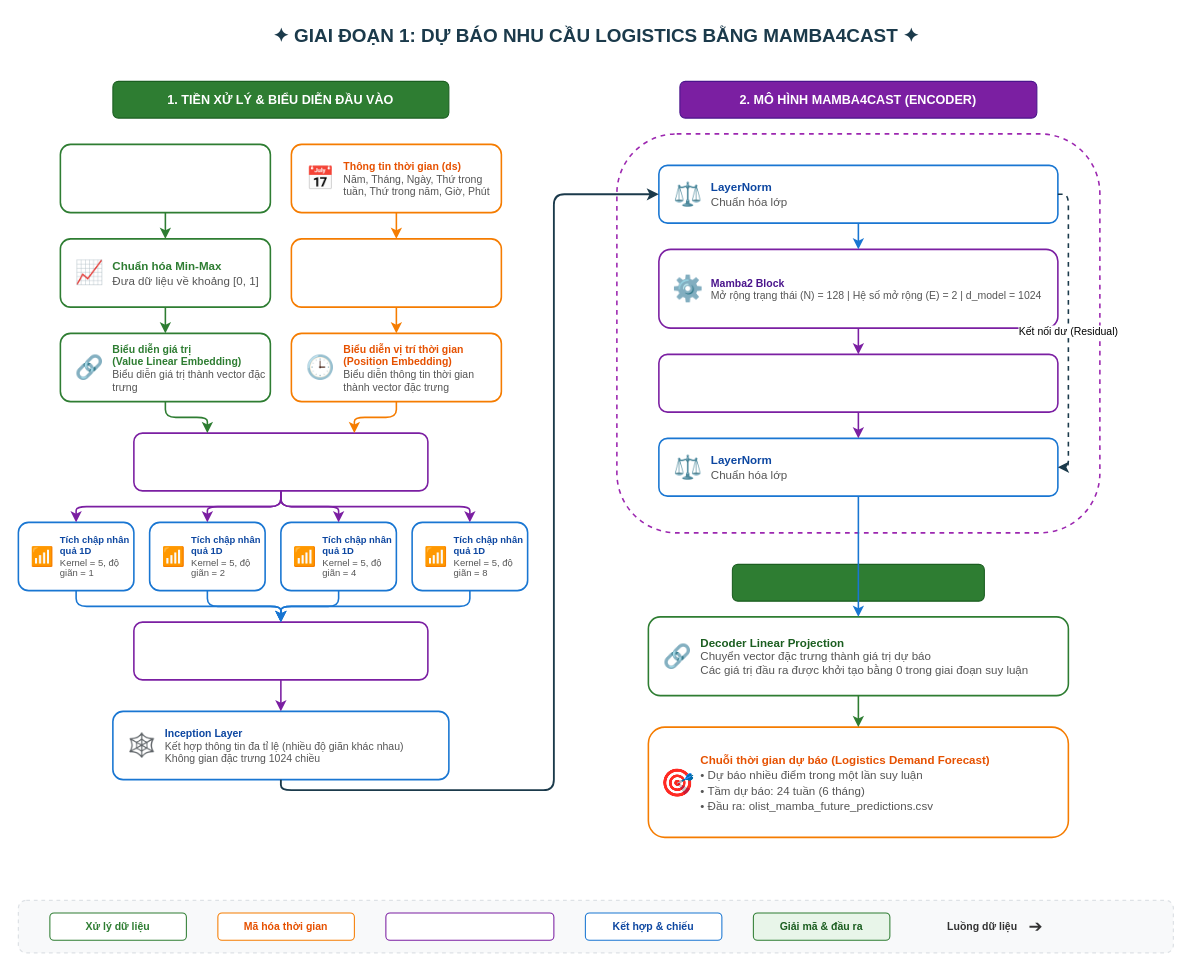
The diagram is 1193 pixels wide and 971 high, and some of its shapes have lost their labels. Here are the shapes that lost their labels. From the top down, the centre of each, then its label:
At point 165,178: "🗄️ Chuỗi thời gian gốc d_t (Giá trị)".
At point 396,272: "〰️ Mã hóa tuần hoàn (Sinusoidal Encoding) Trích xuất đặc trưng chu kỳ".
At point 858,382: "🌀 Tích chập nhân quả xếp chồng + GeLU Trích xuất biểu diễn cuối cùng".
At point 280,461: "📦 Ghép các vector đặc trưng Vector embedding đầu vào (112 chiều)".
At point 857,582: "3. GIẢI MÃ & DỰ BÁO".
At point 280,650: "📦 Ghép và tăng số chiều Không gian đặc trưng 1024 chiều".
At point 469,926: "Mô hình Mamba4Cast".
